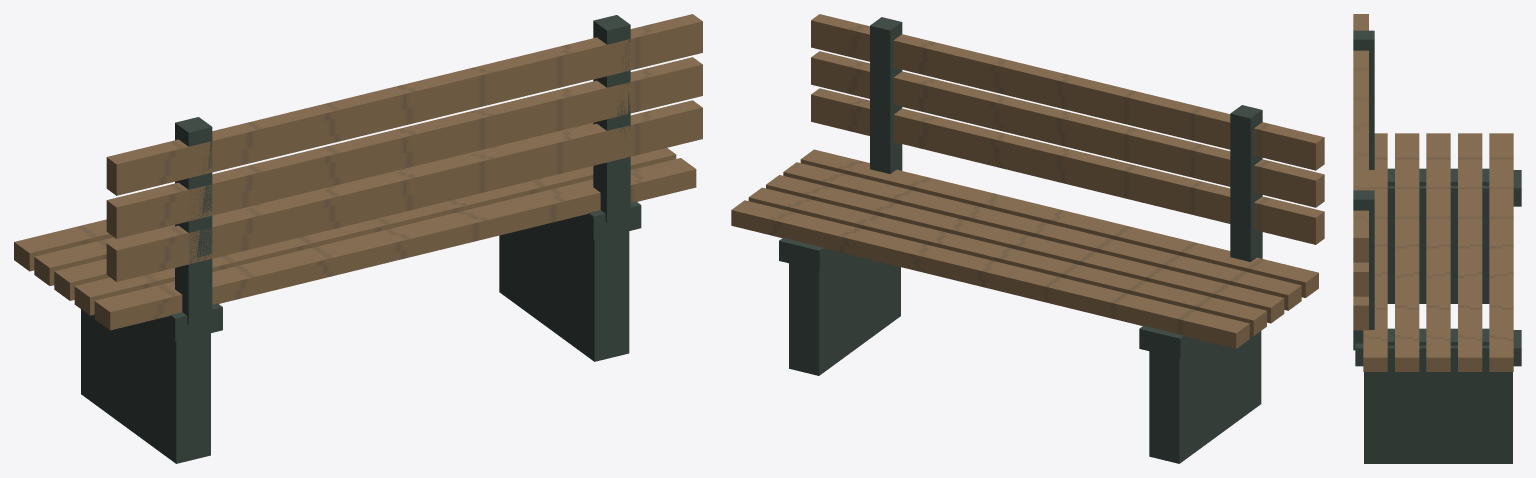
File: SM_QD_StreetPark_Bench.fbx
3 renders of one model, left to right at view 1: azimuth 30°, elevation 25°; view 2: azimuth 150°, elevation 25°; view 3: azimuth 270°, elevation 25°, orthographic. The views are drawn at different scales.
Parts seen in each view (by area): view 1: SM_QD_StreetPark_Bench; view 2: SM_QD_StreetPark_Bench; view 3: SM_QD_StreetPark_Bench.
Boxes of the visible parts, left/top/right/bottom form: SM_QD_StreetPark_Bench: left=14, top=14, right=702, bottom=463; SM_QD_StreetPark_Bench: left=731, top=14, right=1324, bottom=463; SM_QD_StreetPark_Bench: left=1353, top=14, right=1521, bottom=463.
Size of the model in its own units: 1.85 by 0.5875 by 1.01.
